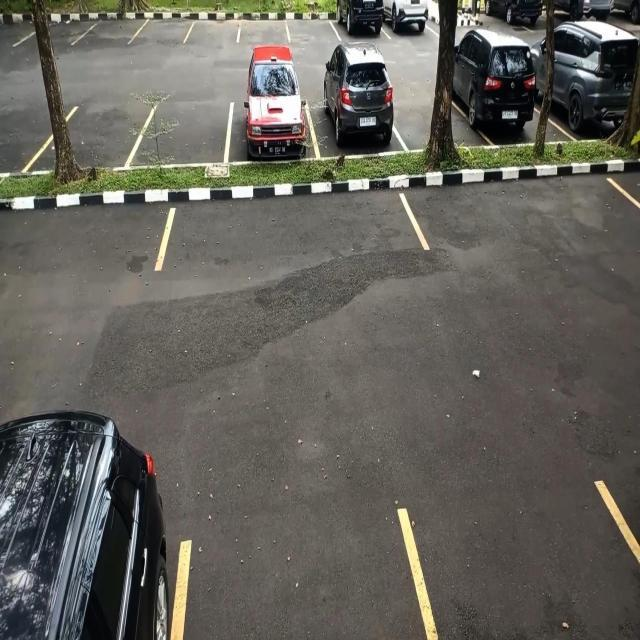Car: (550, 31, 632, 140), (455, 42, 541, 145), (312, 71, 400, 155), (228, 90, 314, 163)
Vacant: (162, 178, 414, 265), (414, 171, 640, 258), (50, 98, 140, 172), (139, 95, 227, 163)
